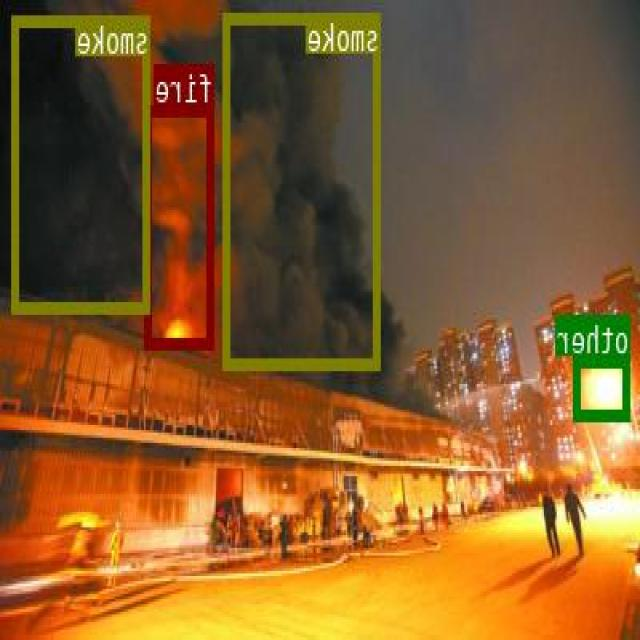fire: (146, 103, 216, 346)
other: (575, 355, 631, 420)
smoke: (225, 11, 382, 367), (14, 15, 152, 311)
